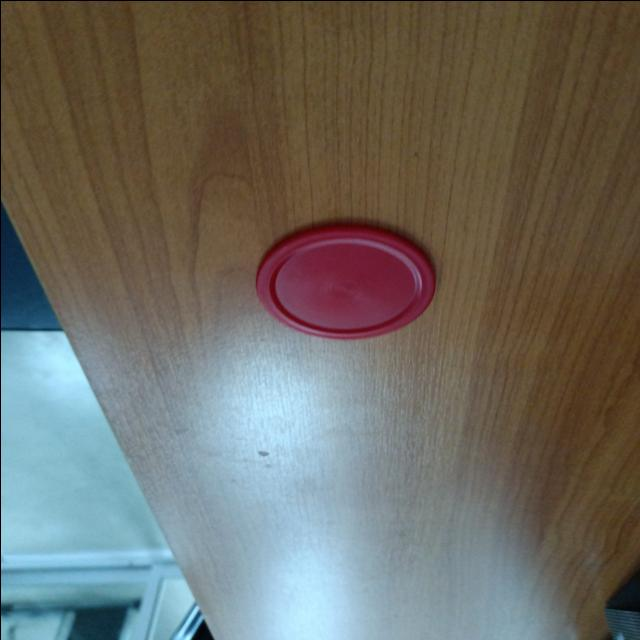chip: (252, 225, 438, 342)
